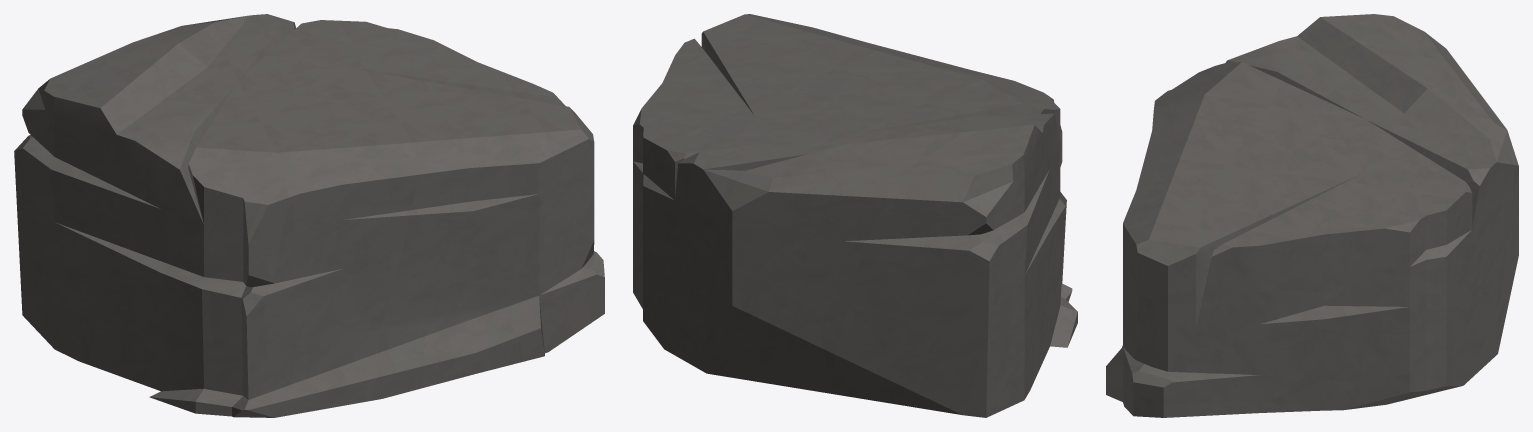
File: Boulder_5.fbx
The picture shows the model from 3 angles, left to right: view 1: azimuth 30°, elevation 25°; view 2: azimuth 150°, elevation 25°; view 3: azimuth 270°, elevation 25°; orthographic projection. The views are drawn at different scales.
Parts seen in each view (by area): view 1: Boulder_5; view 2: Boulder_5; view 3: Boulder_5.
Part boxes in pixels (box(x1,y1,x2,y2)): Boulder_5: box(14, 14, 604, 417); Boulder_5: box(633, 14, 1077, 417); Boulder_5: box(1106, 14, 1518, 417).
Bounding box in the file's own units: 1455 × 823 × 1267.
